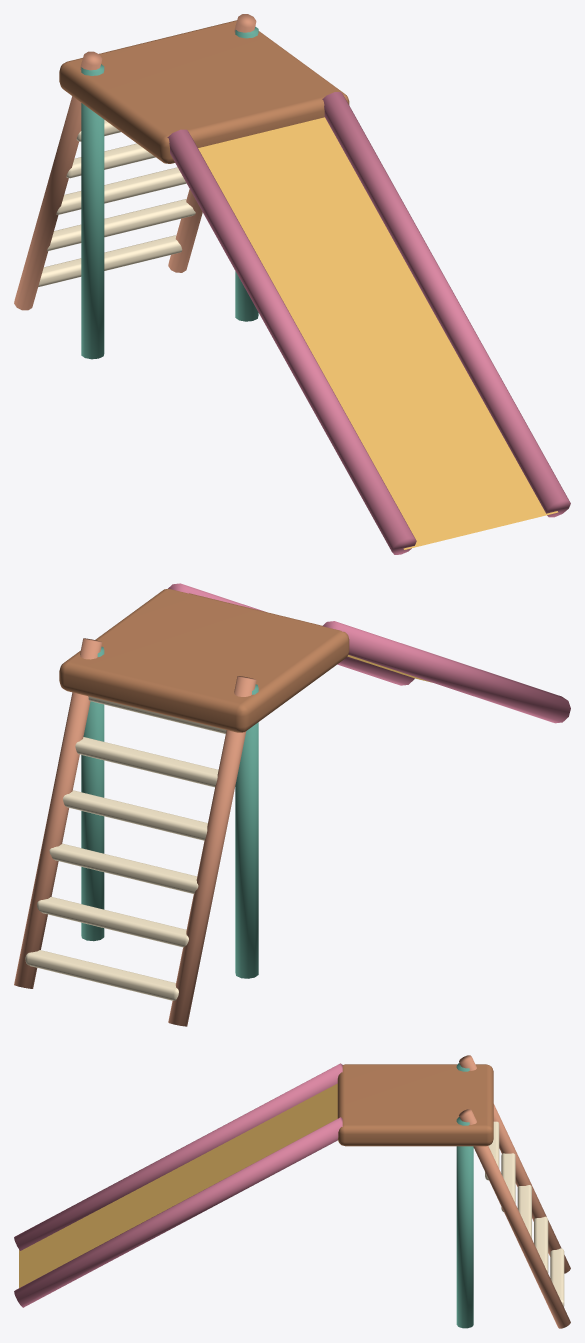
The model's file is Playground_slide.fbx.
3 views of the same model, one above another, from view 1: azimuth 30°, elevation 25°; view 2: azimuth 150°, elevation 25°; view 3: azimuth 270°, elevation 25° (orthographic). The views are drawn at different scales.
Parts seen in each view (by area): view 1: Town_Playground_slide Slide chute.001, Town_Playground_slide Slide platform.001, Town_Playground_slide Slide edge.002, Town_Playground_slide Slide edge.003, Town_Playground_slide Platform leg.002, Town_Playground_slide Ladder rail.002, Town_Playground_slide Ladder rung.007, Town_Playground_slide Ladder rung.006, Town_Playground_slide Ladder rung.008, Town_Playground_slide Ladder rail.003, Town_Playground_slide Ladder rung.009, Town_Playground_slide Platform leg.003; view 2: Town_Playground_slide Slide platform.001, Town_Playground_slide Slide edge.002, Town_Playground_slide Ladder rail.002, Town_Playground_slide Ladder rail.003, Town_Playground_slide Platform leg.002, Town_Playground_slide Platform leg.003, Town_Playground_slide Ladder rung.006, Town_Playground_slide Ladder rung.007, Town_Playground_slide Ladder rung.008, Town_Playground_slide Ladder rung.009, Town_Playground_slide Ladder rung.010, Town_Playground_slide Slide edge.003 (+1 smaller); view 3: Town_Playground_slide Slide platform.001, Town_Playground_slide Slide chute.001, Town_Playground_slide Slide edge.003, Town_Playground_slide Slide edge.002, Town_Playground_slide Platform leg.003, Town_Playground_slide Ladder rail.003, Town_Playground_slide Ladder rail.002, Town_Playground_slide Ladder rung.006, Town_Playground_slide Ladder rung.007, Town_Playground_slide Ladder rung.008, Town_Playground_slide Ladder rung.009.
Part boxes in pixels (x1,y1,x2,y2): Town_Playground_slide Slide chute.001: (198,117,558,549); Town_Playground_slide Slide platform.001: (59,20,349,163); Town_Playground_slide Slide edge.002: (167,129,416,554); Town_Playground_slide Slide edge.003: (322,92,570,517); Town_Playground_slide Platform leg.002: (81,64,104,359); Town_Playground_slide Ladder rail.002: (14,51,102,310); Town_Playground_slide Ladder rung.007: (47,199,195,250); Town_Playground_slide Ladder rung.006: (38,235,182,287); Town_Playground_slide Ladder rung.008: (56,167,186,214); Town_Playground_slide Ladder rail.003: (168,14,256,272); Town_Playground_slide Ladder rung.009: (66,143,155,178); Town_Playground_slide Platform leg.003: (235,26,258,321); Town_Playground_slide Slide platform.001: (59,589,349,732); Town_Playground_slide Slide edge.002: (322,621,570,723); Town_Playground_slide Ladder rail.002: (168,676,256,1026); Town_Playground_slide Ladder rail.003: (14,638,102,988); Town_Playground_slide Platform leg.002: (235,684,258,978); Town_Playground_slide Platform leg.003: (81,646,104,941); Town_Playground_slide Ladder rung.006: (25,950,178,1000); Town_Playground_slide Ladder rung.007: (37,897,188,947); Town_Playground_slide Ladder rung.008: (49,843,198,893); Town_Playground_slide Ladder rung.009: (63,790,207,840); Town_Playground_slide Ladder rung.010: (75,737,218,787); Town_Playground_slide Slide edge.003: (168,583,414,685); Town_Playground_slide Slide platform.001: (337,1064,493,1146); Town_Playground_slide Slide chute.001: (19,1083,337,1287); Town_Playground_slide Slide edge.003: (14,1117,342,1307); Town_Playground_slide Slide edge.002: (14,1063,342,1250); Town_Playground_slide Platform leg.003: (456,1117,473,1328); Town_Playground_slide Ladder rail.003: (459,1109,570,1328); Town_Playground_slide Ladder rail.002: (459,1055,570,1273); Town_Playground_slide Ladder rung.006: (550,1248,564,1306); Town_Playground_slide Ladder rung.007: (534,1216,548,1272); Town_Playground_slide Ladder rung.008: (517,1185,531,1238); Town_Playground_slide Ladder rung.009: (501,1153,515,1212).
Size of the model in its own units: 110 by 169 by 393.
